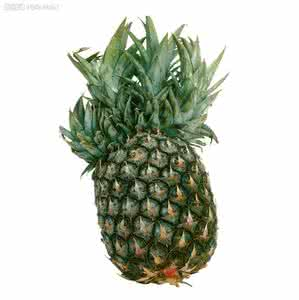pineapple: (58, 25, 242, 285)
